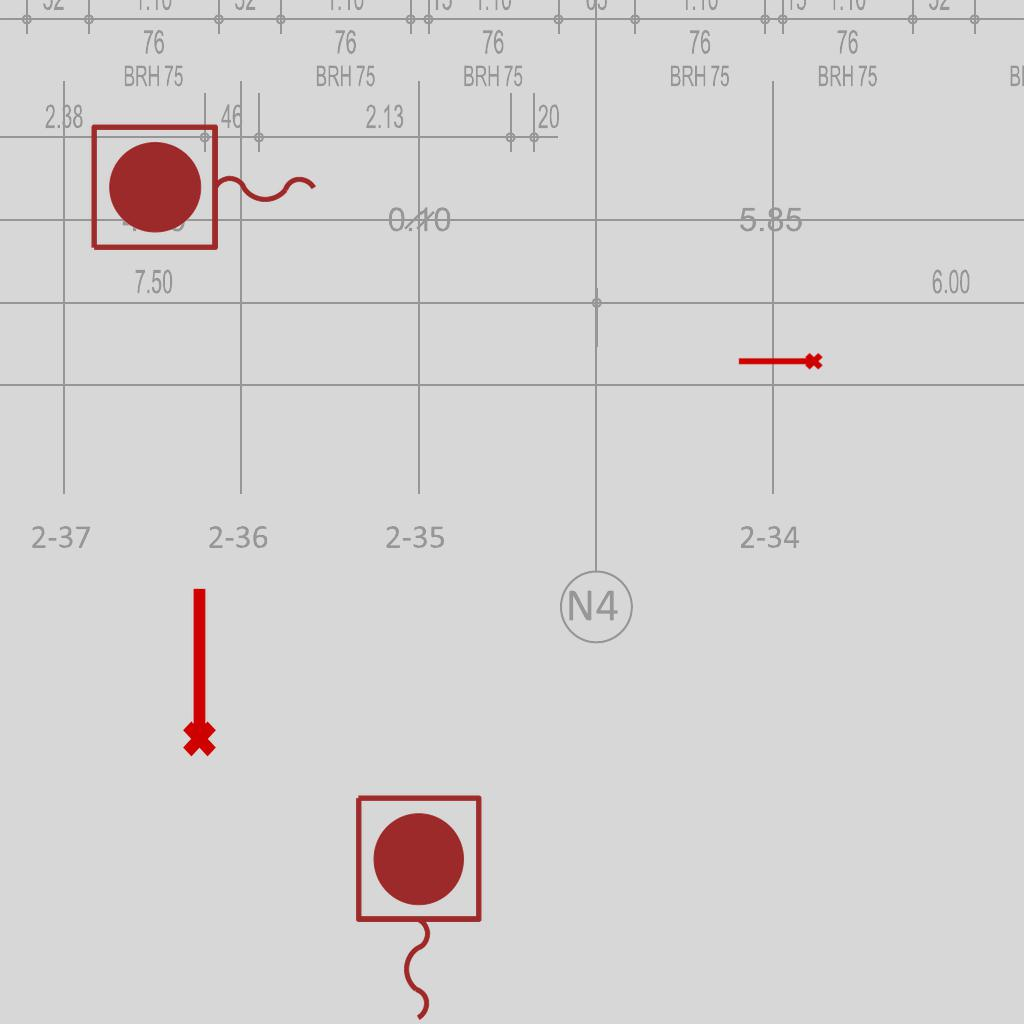ASR_Ansaugoeffnung: (174, 583, 220, 759), (736, 351, 824, 374)
Zugtaster: (83, 117, 327, 261), (345, 787, 489, 1024)
